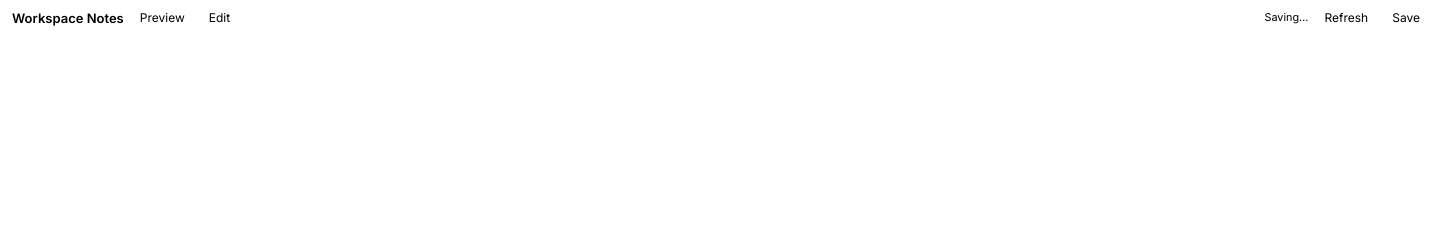
Test case: workspace document views › renders notes Markdown and removes executable HTML from the preview
Step 1. Click the button "Preview" → (162, 18), box [132,8,193,28]
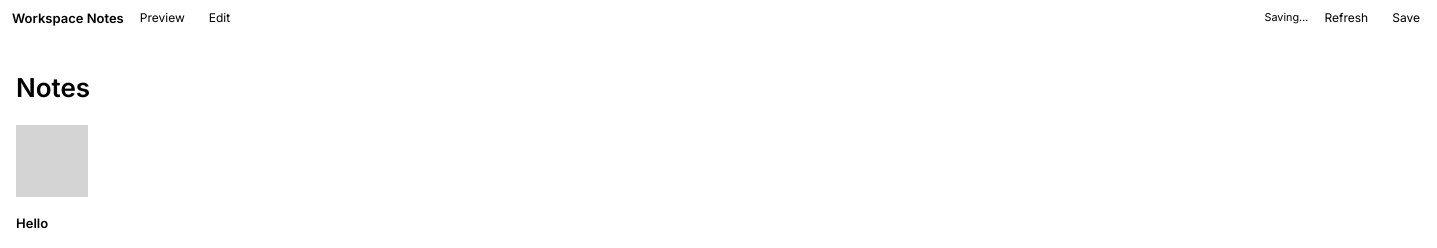
expect the heading "Notes" is shown: met, box [16,72,90,103]
expect the text "Hello" is shown: met, box [16,215,48,231]
